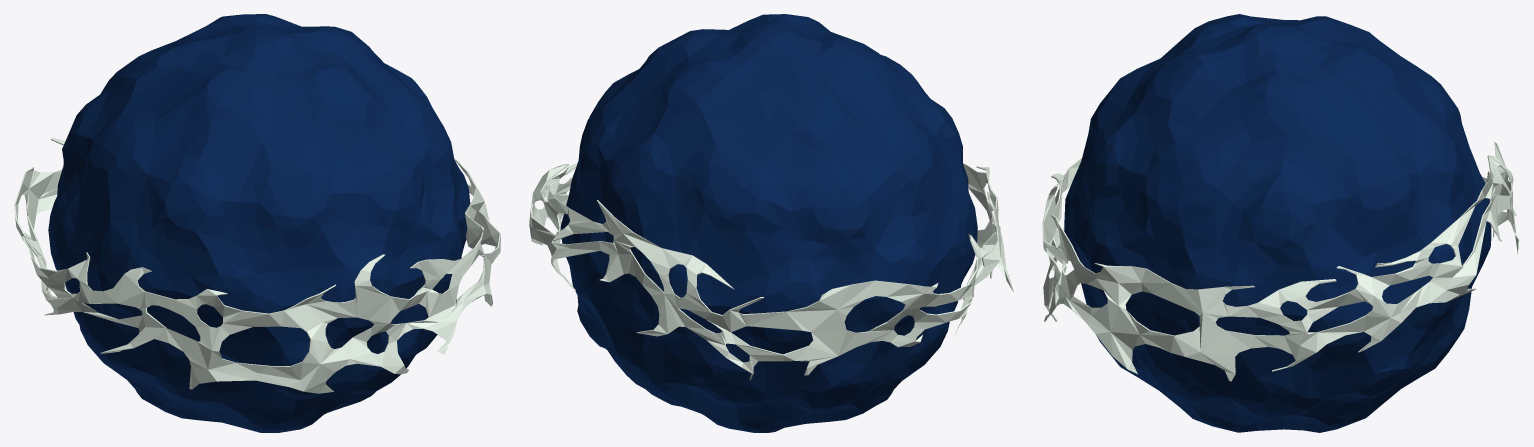
File: Planet_44.glb
3 renders of one model, left to right at view 1: azimuth 30°, elevation 25°; view 2: azimuth 150°, elevation 25°; view 3: azimuth 270°, elevation 25°, orthographic.
Visible parts, largest first — view 1: Planet_44; view 2: Planet_44; view 3: Planet_44.
Boxes of the visible parts, x1,y1,x2,y2 form: Planet_44: [14, 14, 500, 432]; Planet_44: [529, 14, 1013, 432]; Planet_44: [1042, 14, 1519, 432].
Size of the model in its own units: 22.53 by 19.74 by 22.07.
1 material, 1 textured.
